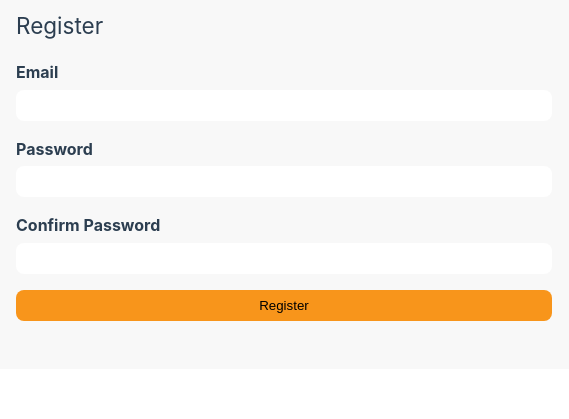
Test: RegisterForm › should hide error message when password confirmation is entered
Click the button "Register": coordinates (284, 305) [16,290,552,321]
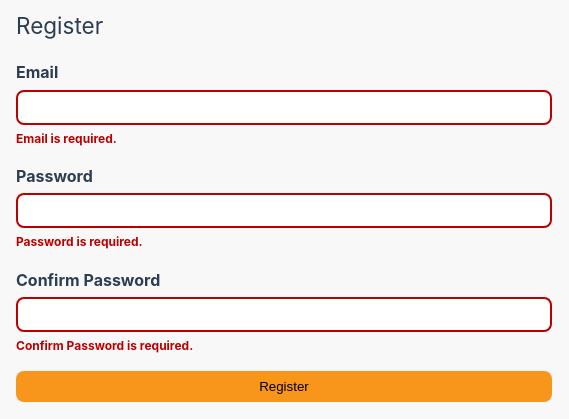
Check: the text "Confirm Password is required." is shown, box [16,338,193,353]
In the password field labelled "Confirm Password": coordinates (284, 315) [16,297,552,332], type "password"
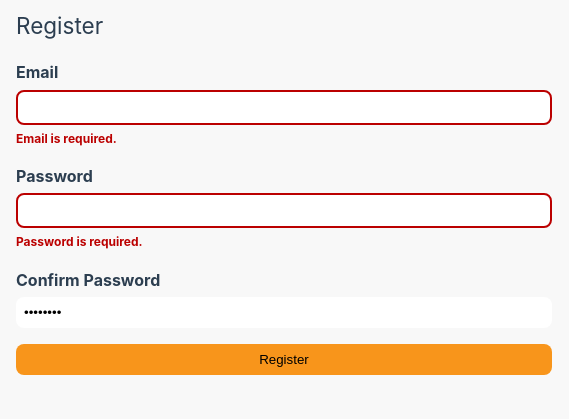
Check: the text "Confirm Password is required" is gone
